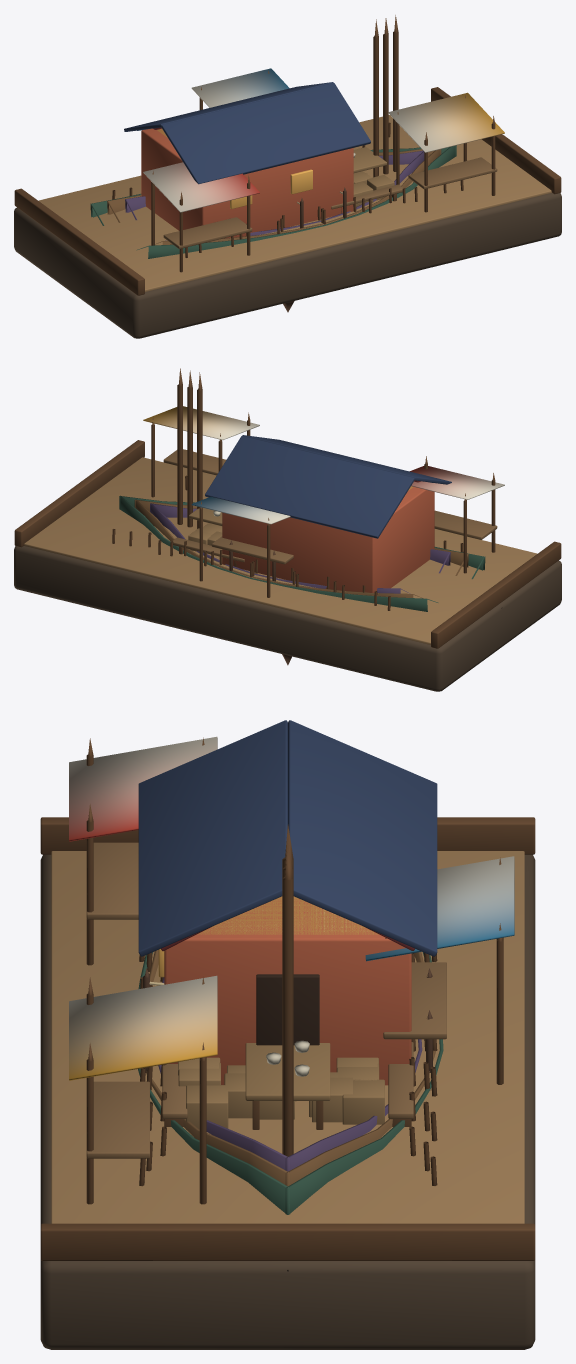
The model's file is market.glb.
3 renders of one model, top to bottom at view 1: azimuth 30°, elevation 25°; view 2: azimuth 150°, elevation 25°; view 3: azimuth 270°, elevation 25°, orthographic. The views are drawn at different scales.
Parts seen in each view (by area): view 1: barge, hullhouseC, hullhouseA, hullhouseB, souppot; view 2: barge, hullhouseC, hullhouseA, hullhouseB, souppot; view 3: barge, hullhouseC, hullhouseA, souppot, hullhouseB.
Part boxes in pixels (x1=…): barge: x1=14, y1=68, x2=561, y2=338; hullhouseC: x1=90, y1=15, x2=463, y2=258; hullhouseA: x1=107, y1=18, x2=446, y2=252; hullhouseB: x1=125, y1=19, x2=424, y2=240; souppot: x1=331, y1=147, x2=403, y2=213; barge: x1=14, y1=406, x2=561, y2=691; hullhouseC: x1=112, y1=368, x2=485, y2=611; hullhouseA: x1=129, y1=370, x2=468, y2=605; hullhouseB: x1=148, y1=372, x2=450, y2=593; souppot: x1=172, y1=508, x2=244, y2=566; barge: x1=40, y1=736, x2=535, y2=1349; hullhouseC: x1=138, y1=720, x2=443, y2=1214; hullhouseA: x1=146, y1=834, x2=435, y2=1186; souppot: x1=162, y1=1040, x2=413, y2=1129; hullhouseB: x1=158, y1=824, x2=422, y2=1171.
Bounding box in the file's own units: 14.28 × 8.5 × 7.
